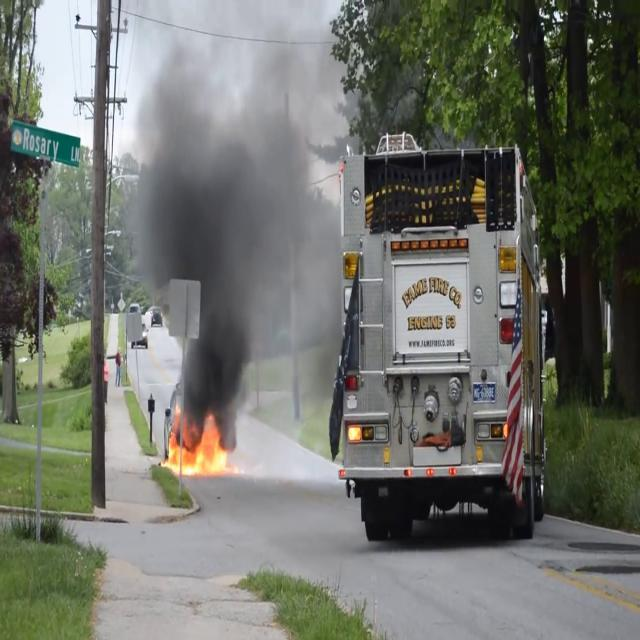Fire: (164, 414, 234, 482)
Smoke: (124, 4, 360, 428)
